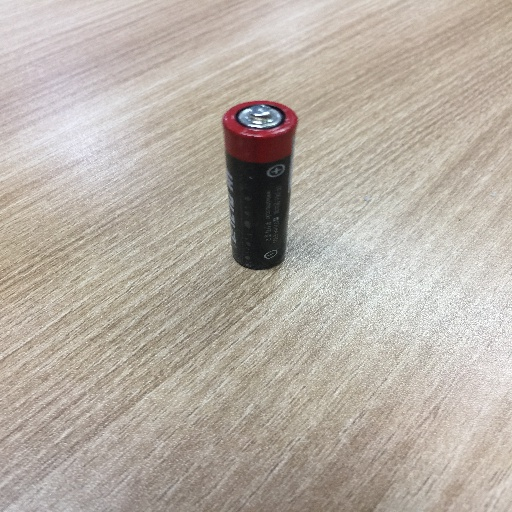Battery_0: (219, 90, 311, 284)
